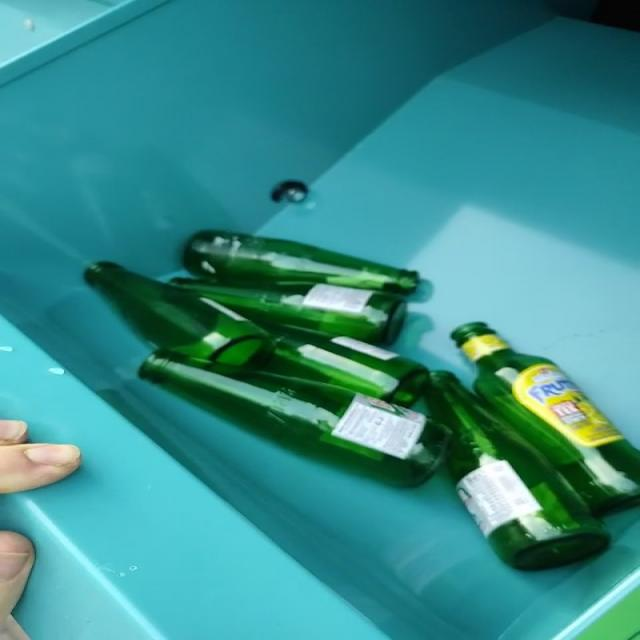glass: (85, 231, 640, 570)
